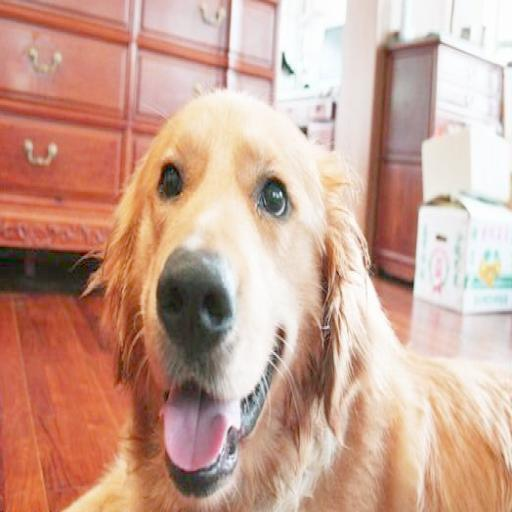dog_face: (118, 112, 353, 481)
